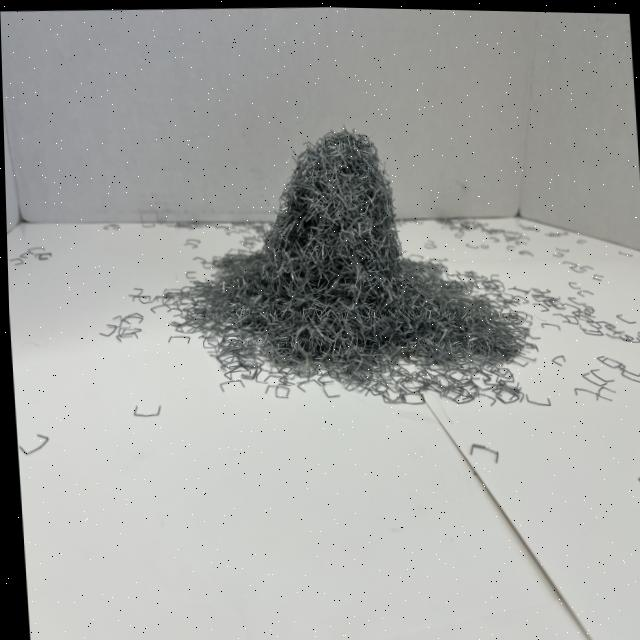staples: (148, 113, 539, 409)
